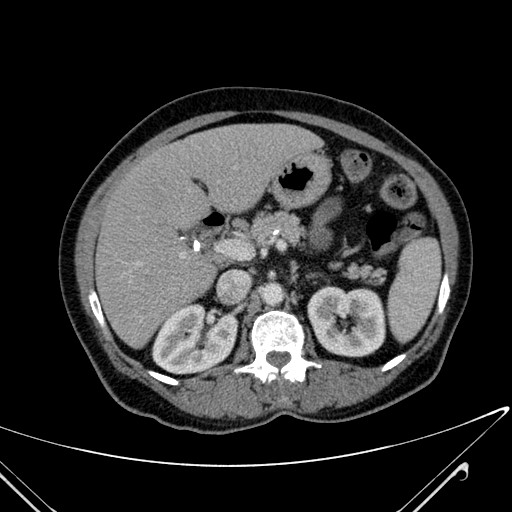clipe: (193, 238, 201, 253), (180, 236, 187, 241)
